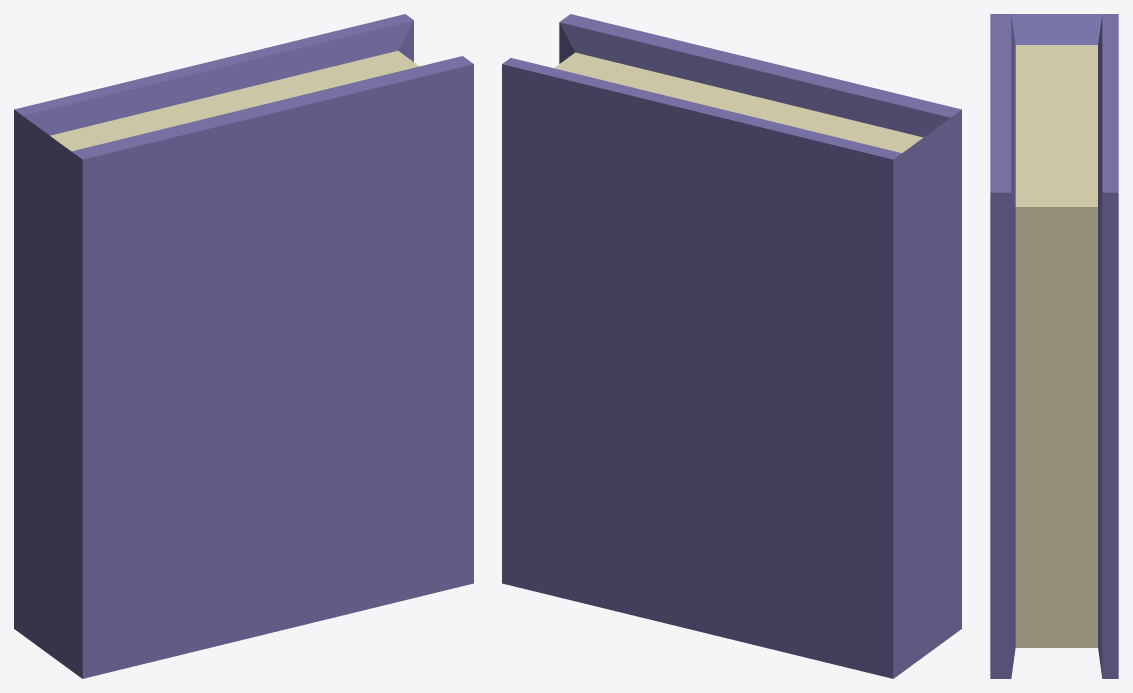
Rendered from book blue.fbx.
3 renders of one model, left to right at view 1: azimuth 30°, elevation 25°; view 2: azimuth 150°, elevation 25°; view 3: azimuth 270°, elevation 25°, orthographic. The views are drawn at different scales.
Visible parts, largest first — view 1: Cube; view 2: Cube; view 3: Cube.
Part boxes in pixels (box(x1,y1,x2,y2)): Cube: box(14, 14, 473, 678); Cube: box(502, 14, 961, 678); Cube: box(990, 14, 1118, 678).
Size of the model in its own units: 200 by 254 by 60.64.
